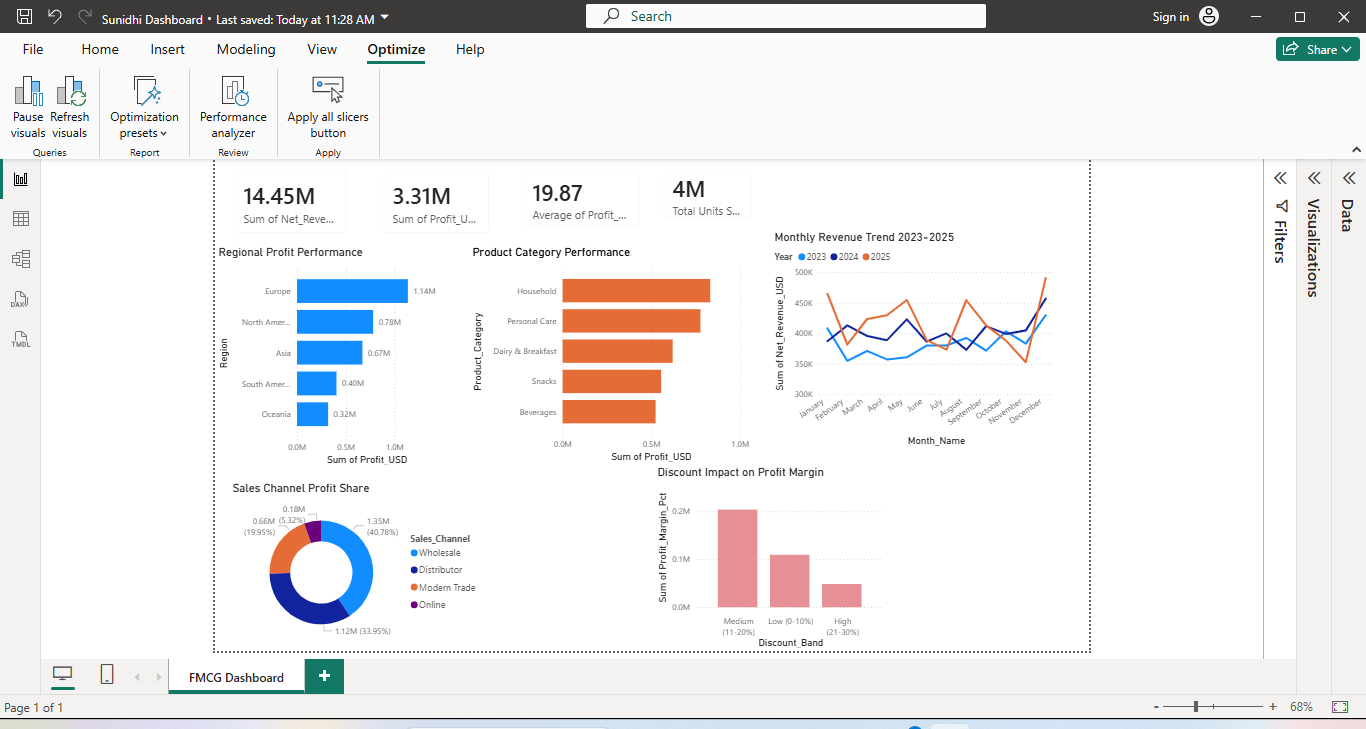

The dashboard page shown, as its layout file describes it:
{"tool":"powerbi","page":{"name":"FMCG Dashboard","canvas":[1280,720],"ordinal":0},"visuals":[{"type":"cardVisual","fields":{"Data":["Sum(FMCG Datasets.Net_Revenue_USD)"]},"box":[11.7,0,197.6,125.9],"z":0},{"type":"cardVisual","fields":{"Data":["Sum(FMCG Datasets.Profit_USD)"]},"box":[229.8,0,188.8,125.9],"z":1000},{"type":"cardVisual","fields":{"Data":["Avg(FMCG Datasets.Profit_Margin_Pct)"]},"box":[434.6,0,204.9,115.6],"z":2000},{"type":"cardVisual","fields":{"Data":["Sum(FMCG Datasets.Units_Sold)"]},"box":[639.5,0,163.9,103.9],"z":3000},{"type":"clusteredBarChart","title":"Regional Profit Performance","fields":{"Category":["FMCG Datasets.Region"],"Y":["Sum(FMCG Datasets.Profit_USD)"]},"box":[0,125.9,343.9,326.3],"z":4000},{"type":"clusteredBarChart","title":"Product Category Performance","fields":{"Category":["FMCG Datasets.Product_Category"],"Y":["Sum(FMCG Datasets.Profit_USD)"]},"box":[371.7,125.9,415.6,322],"z":5000},{"type":"lineChart","title":"Monthly Revenue Trend 2023-2025","fields":{"Category":["FMCG Datasets.Month_Name"],"Y":["Sum(FMCG Datasets.Net_Revenue_USD)"],"Series":["FMCG Datasets.Year"]},"box":[813.7,103.9,418.5,322],"z":6000},{"type":"donutChart","title":"Sales Channel Profit Share","fields":{"Category":["FMCG Datasets.Sales_Channel"],"Y":["Sum(FMCG Datasets.Profit_USD)"]},"box":[20.5,471.2,376.1,248.8],"z":6001},{"type":"clusteredColumnChart","title":"Discount Impact on Profit Margin","fields":{"Category":["FMCG Datasets.Discount_Band"],"Y":["Sum(FMCG Datasets.Profit_Margin_Pct)"]},"box":[642.4,447.8,342.4,272.2],"z":6002}]}

Visuals, with their boxes on the page's 1280x720 design canvas (x1, y1, x2, y2). These are canvas units, not pixel positions in the 1366x729 screenshot, which may show the page scaled, cropped or inside an application window:
cardVisual - Sum(FMCG Datasets.Net_Revenue_USD): Rect(12, 0, 209, 126)
cardVisual - Sum(FMCG Datasets.Profit_USD): Rect(230, 0, 419, 126)
cardVisual - Avg(FMCG Datasets.Profit_Margin_Pct): Rect(435, 0, 640, 116)
cardVisual - Sum(FMCG Datasets.Units_Sold): Rect(640, 0, 803, 104)
"Regional Profit Performance" clusteredBarChart: Rect(0, 126, 344, 452)
"Product Category Performance" clusteredBarChart: Rect(372, 126, 787, 448)
"Monthly Revenue Trend 2023-2025" lineChart: Rect(814, 104, 1232, 426)
"Sales Channel Profit Share" donutChart: Rect(20, 471, 397, 720)
"Discount Impact on Profit Margin" clusteredColumnChart: Rect(642, 448, 985, 720)
